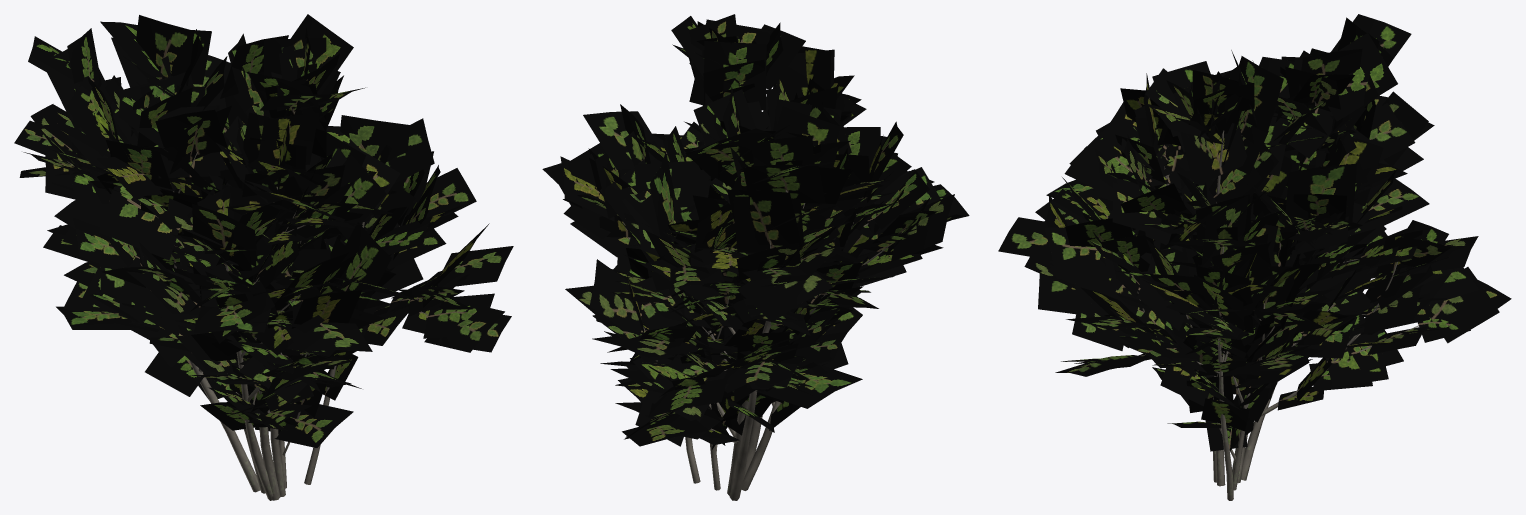
Rendered from hloh_3.glb.
3 views of the same model, side by side, from view 1: azimuth 30°, elevation 25°; view 2: azimuth 150°, elevation 25°; view 3: azimuth 270°, elevation 25° (orthographic). The views are drawn at different scales.
Parts seen in each view (by area): view 1: hloh_3; view 2: hloh_3; view 3: hloh_3.
Part boxes in pixels (x1,y1,x2,y2): hloh_3: [14, 14, 513, 500]; hloh_3: [542, 14, 969, 500]; hloh_3: [998, 14, 1511, 500].
Size of the model in its own units: 3.06 by 3.55 by 3.9.
Materials: 2 (2 with a texture image).
